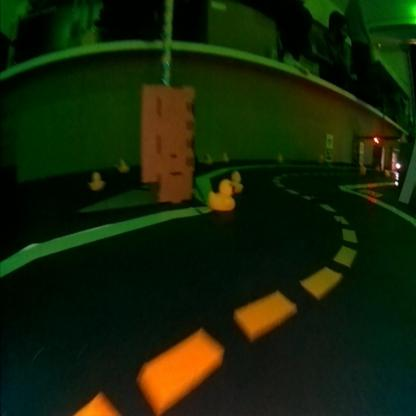Duckie: (209, 180, 235, 206), (230, 170, 244, 194), (90, 172, 106, 190), (118, 158, 130, 172), (208, 154, 214, 162), (279, 154, 284, 162), (224, 152, 228, 160), (320, 154, 325, 160)
Intersection sign: (328, 134, 334, 144)
QR code: (326, 148, 332, 160)
Traffic light: (375, 136, 380, 142)
